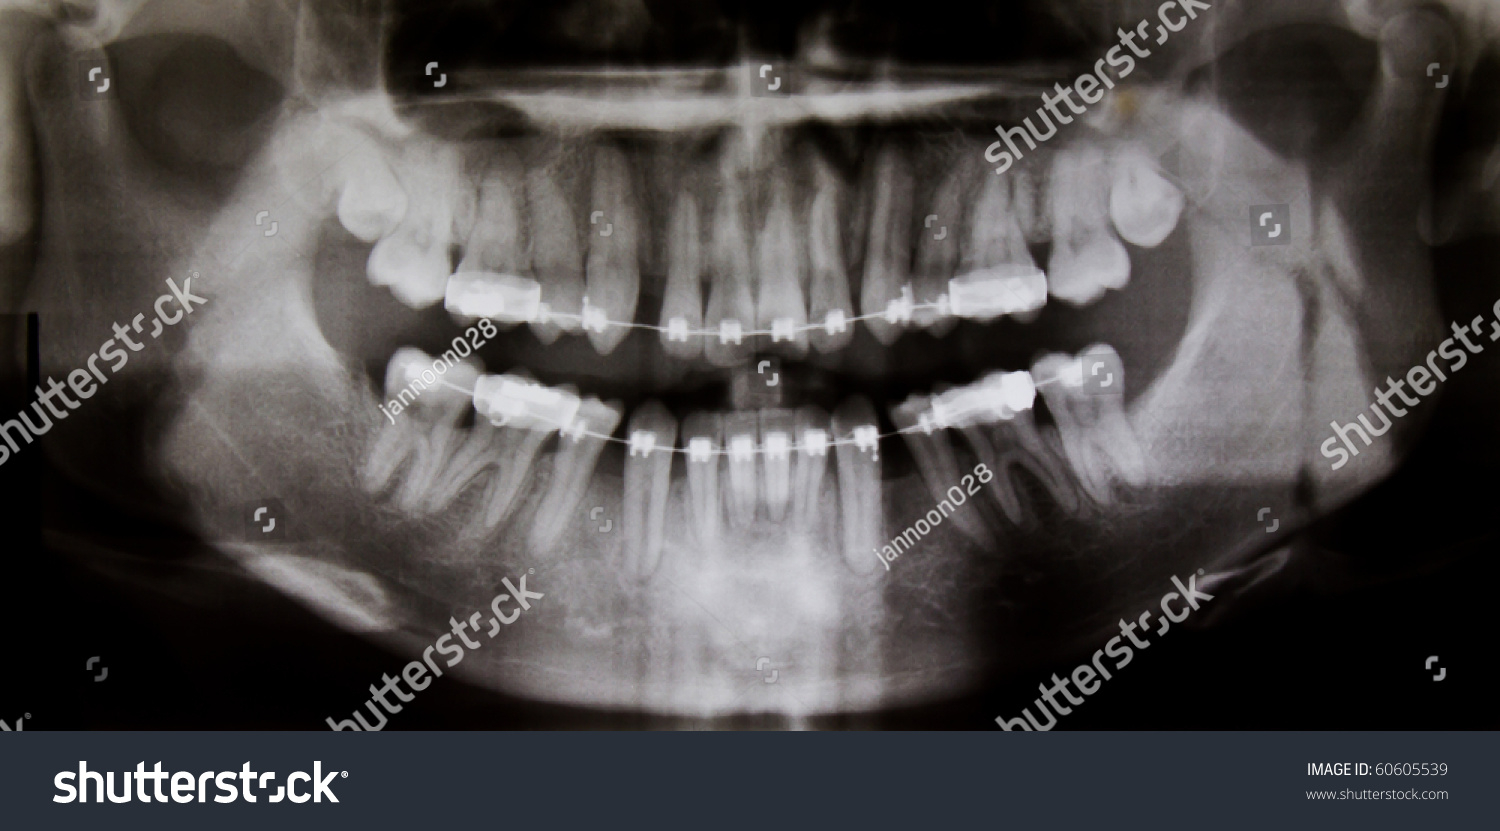canine: (855, 145, 914, 365), (582, 145, 639, 367), (828, 381, 882, 584), (629, 394, 676, 591)
incisor: (653, 166, 725, 374), (701, 171, 762, 383), (808, 147, 858, 357), (754, 182, 810, 362), (681, 403, 734, 570), (786, 388, 829, 566), (753, 402, 793, 537), (723, 406, 760, 551)
molar: (1039, 320, 1170, 523), (952, 366, 1074, 535), (371, 338, 475, 519), (470, 354, 550, 566), (1038, 122, 1126, 307), (960, 158, 1041, 336), (896, 386, 965, 560), (391, 144, 465, 306), (325, 121, 408, 247), (1126, 136, 1182, 247)
premolar: (449, 148, 545, 333), (552, 388, 614, 600), (527, 166, 587, 350), (910, 157, 959, 335)
